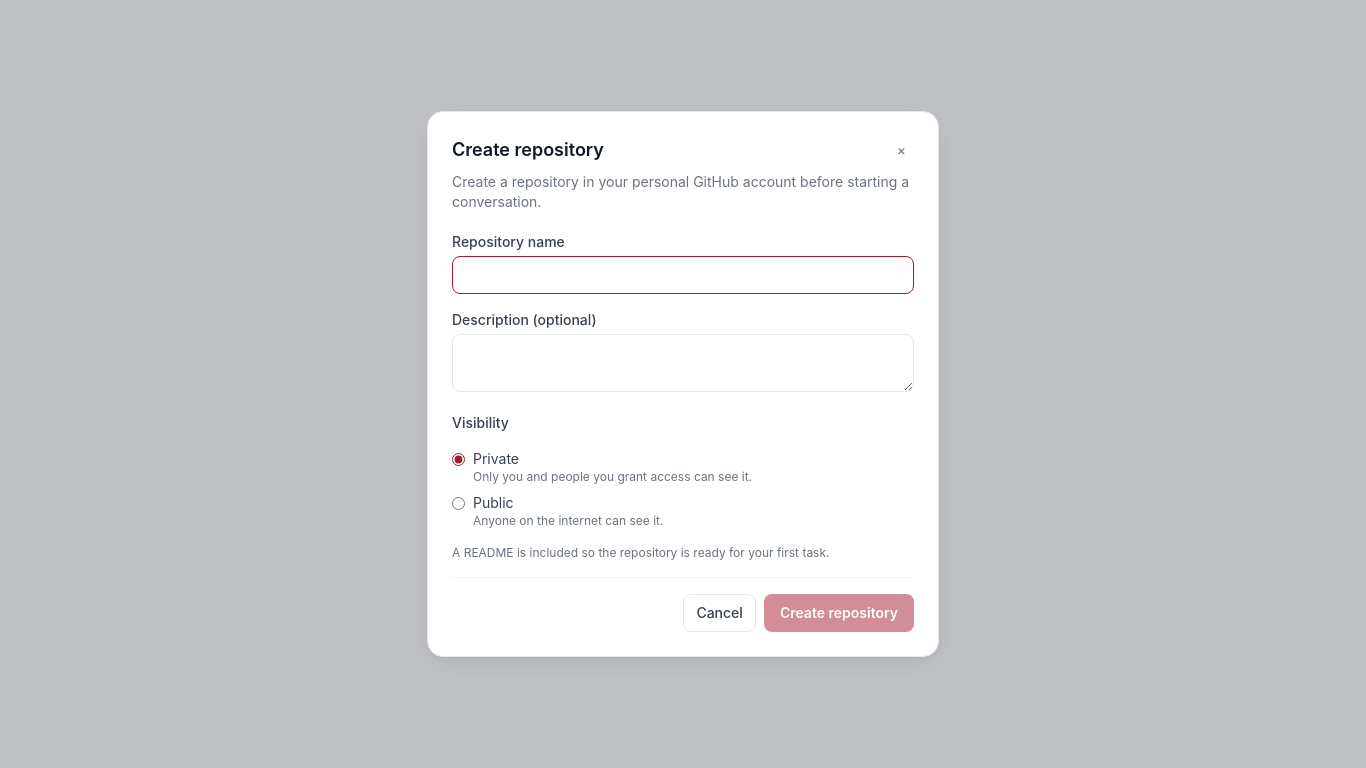
Test: create repository dialog › allows public visibility and sends the optional description
Click the radio button labelled "Public Anyone on the internet can see it." at (458, 504), box [452, 497, 465, 510]
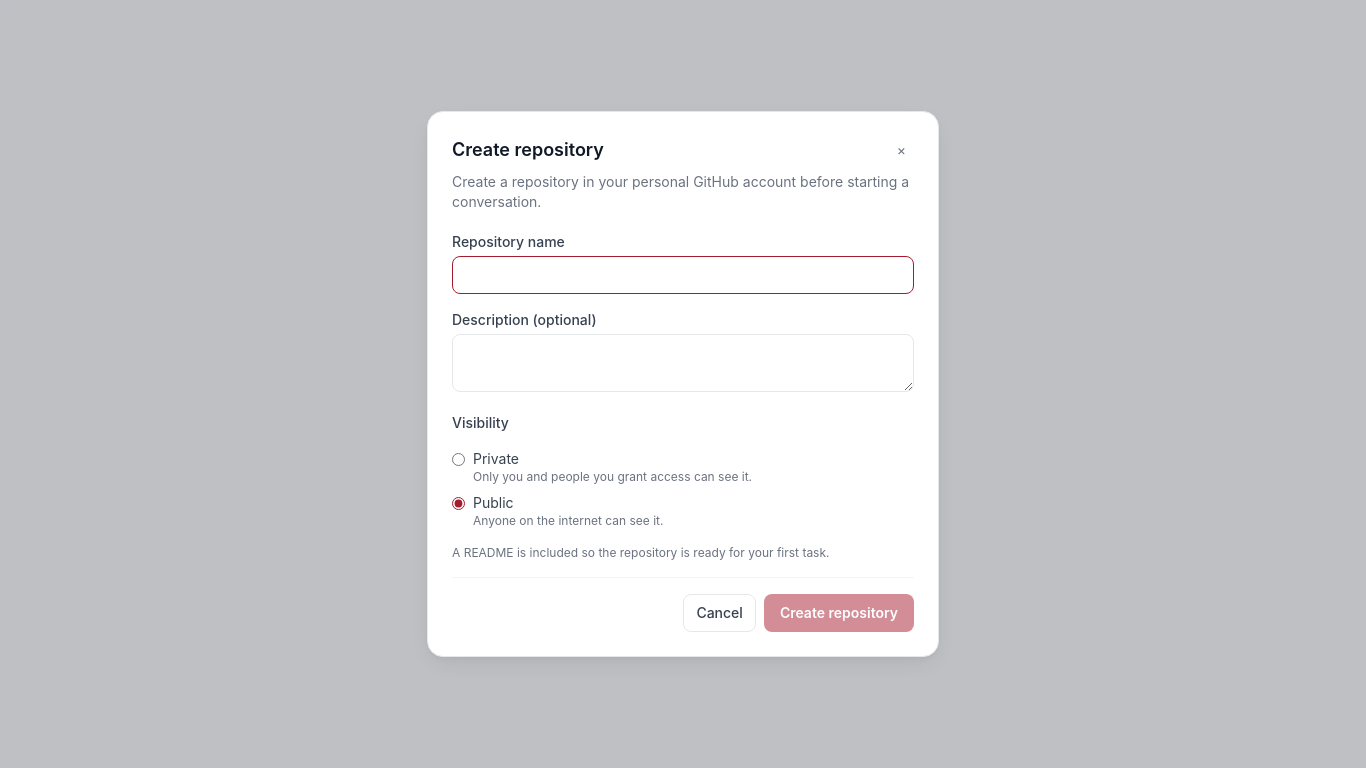
Type "  A new project  " into the text box labelled "Description (optional)" at (683, 363), box [452, 334, 914, 392]
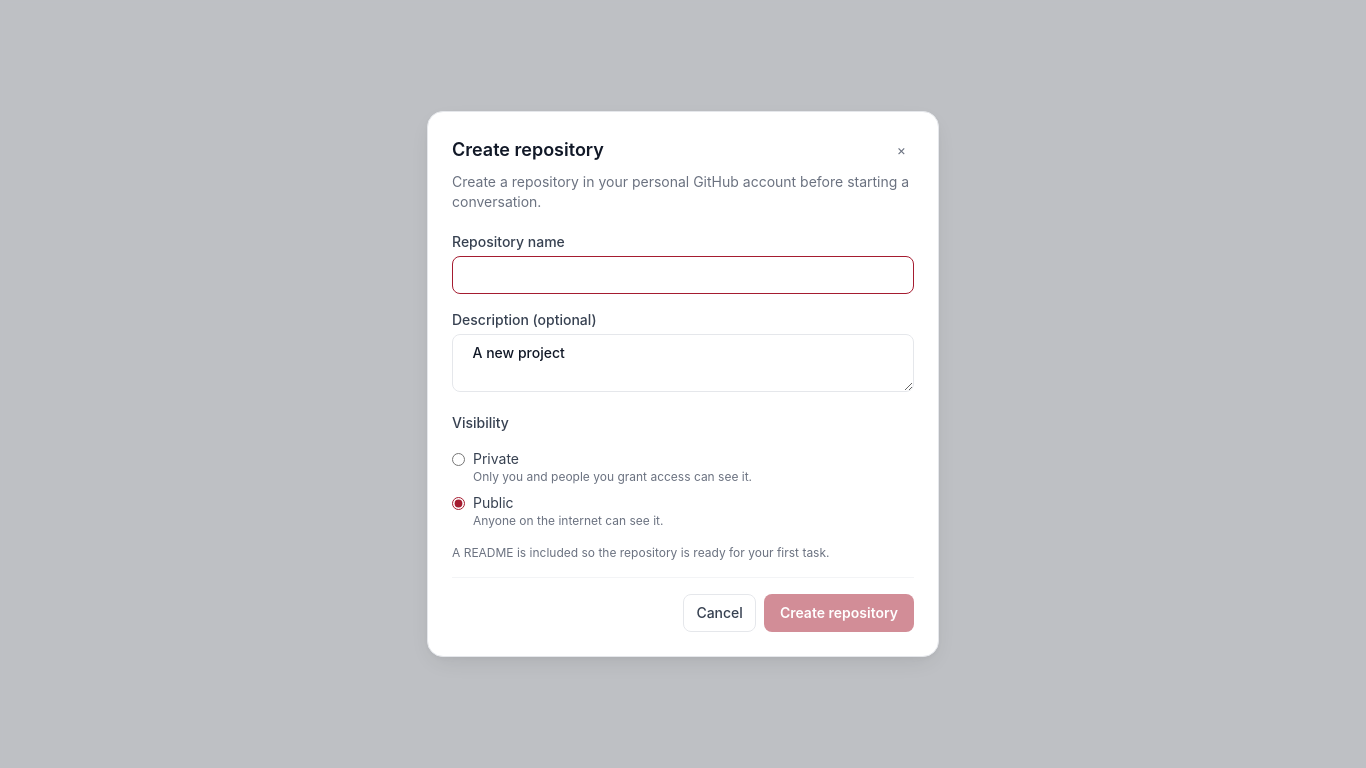
Type "new-project" into the field labelled "Repository name" at (683, 275), box [452, 256, 914, 294]
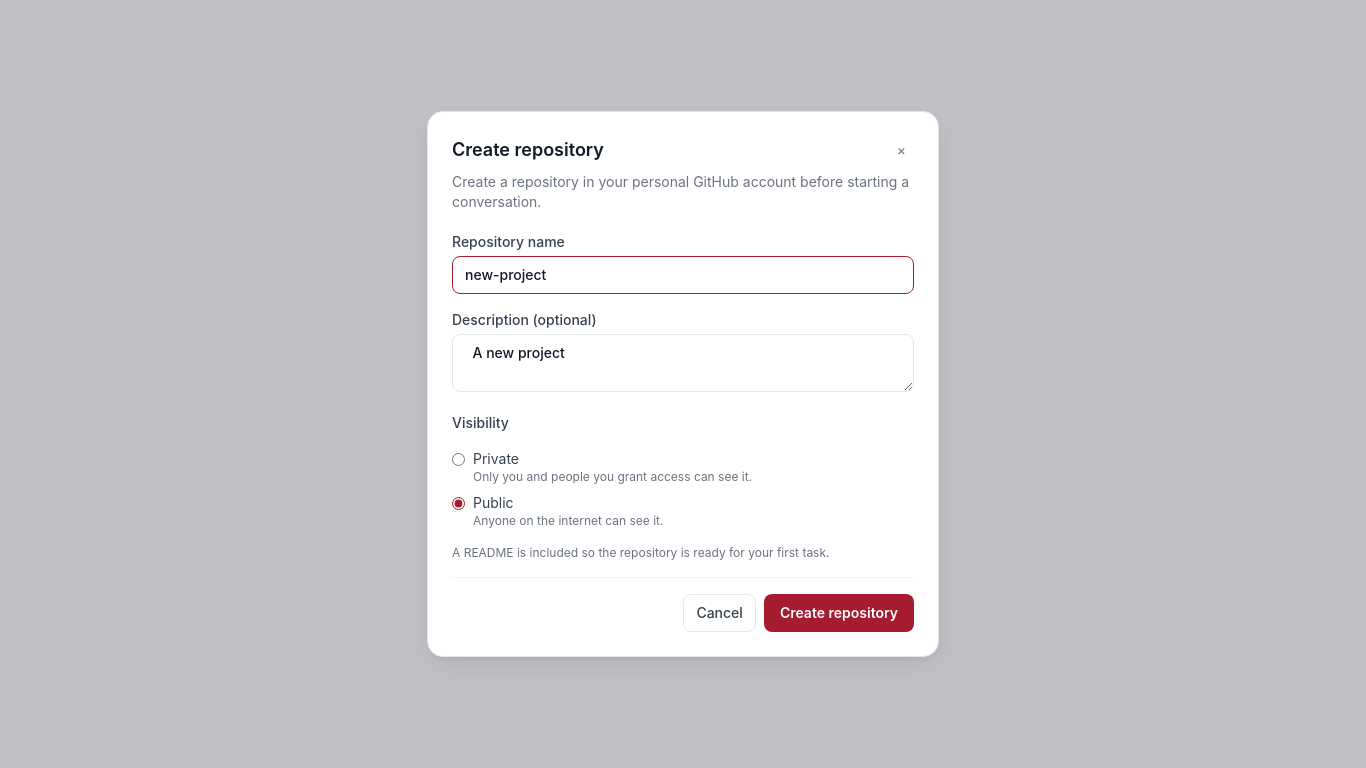
Submit the form "Repository name", box [452, 232, 914, 632]
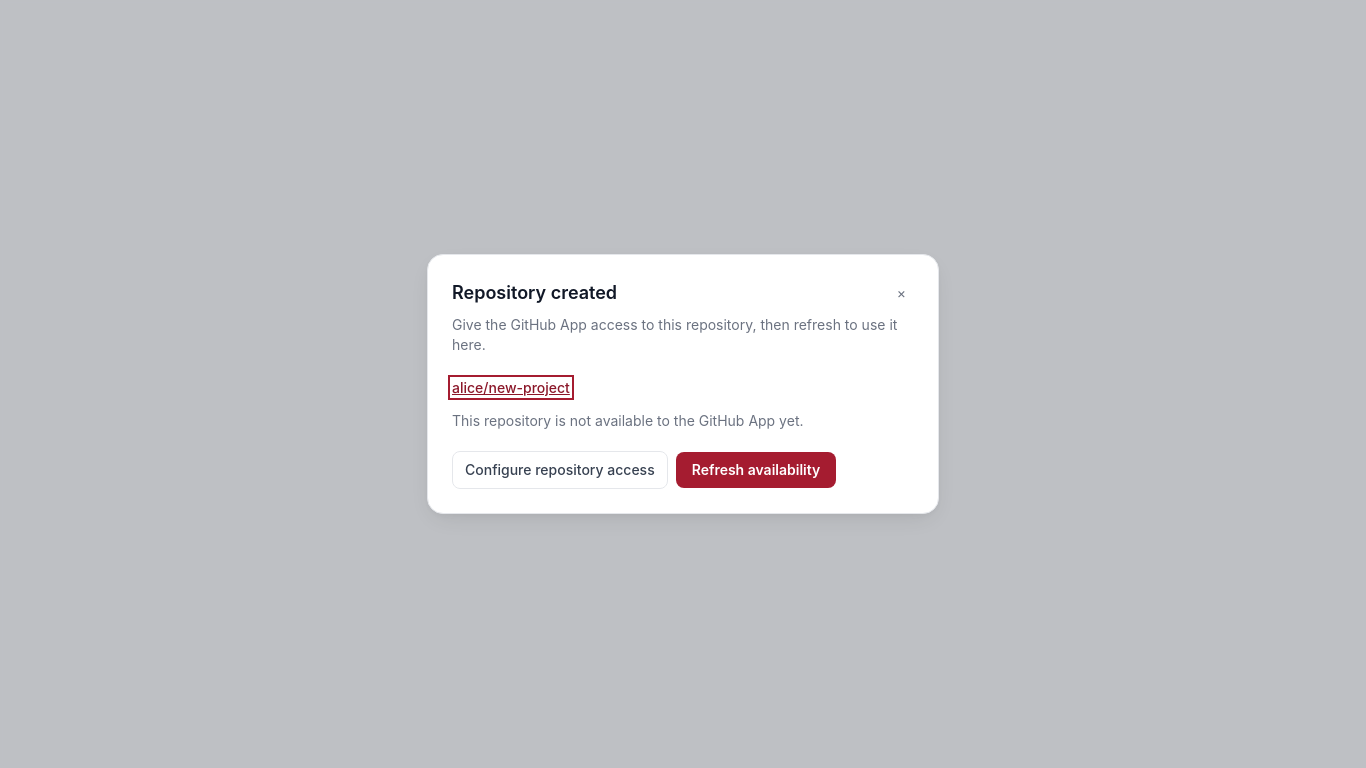
Result: the message "This repository is not available to the GitHub App yet." is shown at [452, 412, 804, 429]
